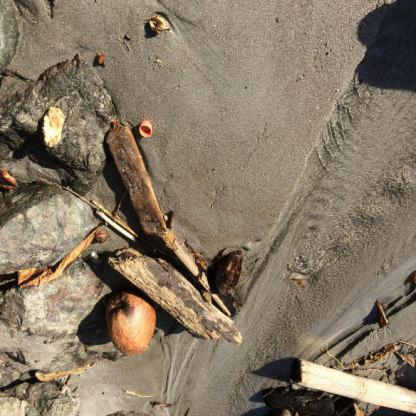Bottle: (139, 121, 152, 137)
